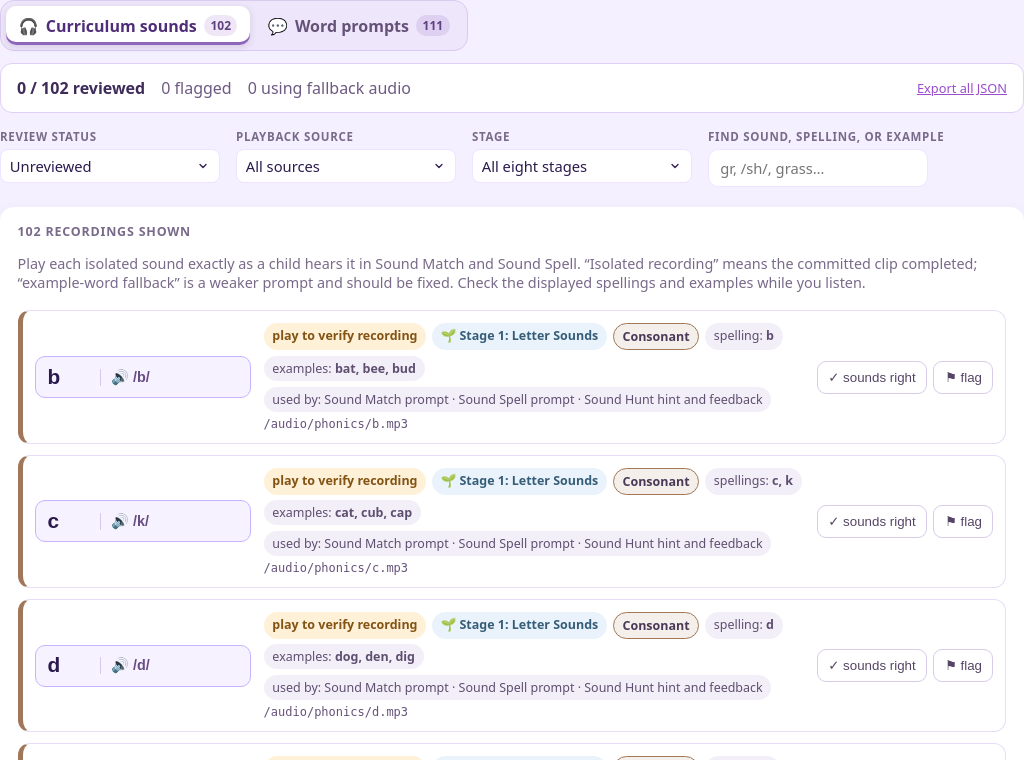
Test: Admin phonics audit rendered experience › renders the full curriculum by default and remains usable on mobile
The image size is (1024, 760).
Type "grass" into the field labelled "Find sound, spelling, or example" at point(818, 168), box [708,149,928,187]
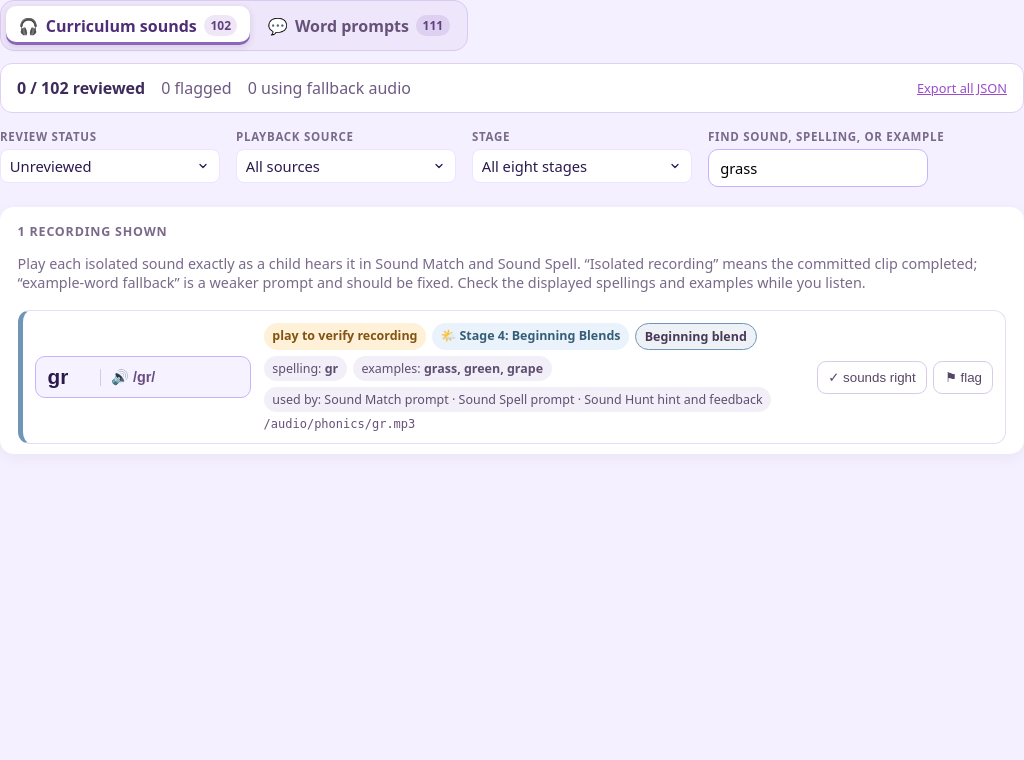
Click the button "gr 🔊 /gr/" at point(143, 377), box [35,356,251,398]
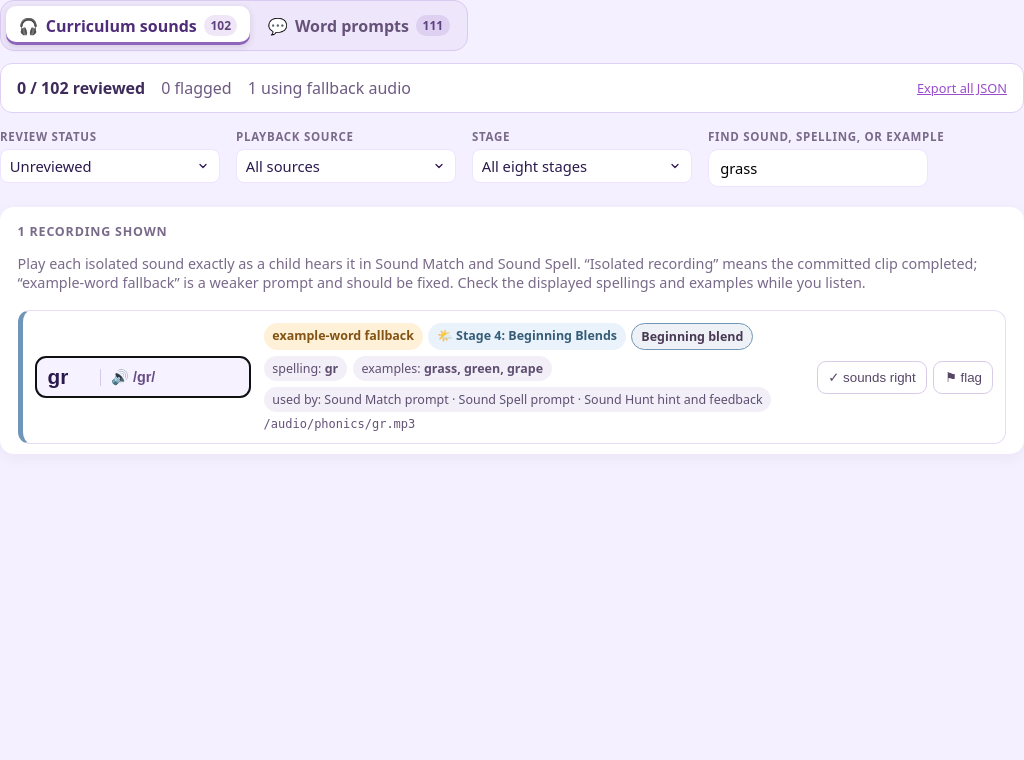
expect the button "✓ sounds right" is shown: met, box [817,361,927,394]
expect the text "example-word fallback" is shown: met, box [264,323,423,350]
